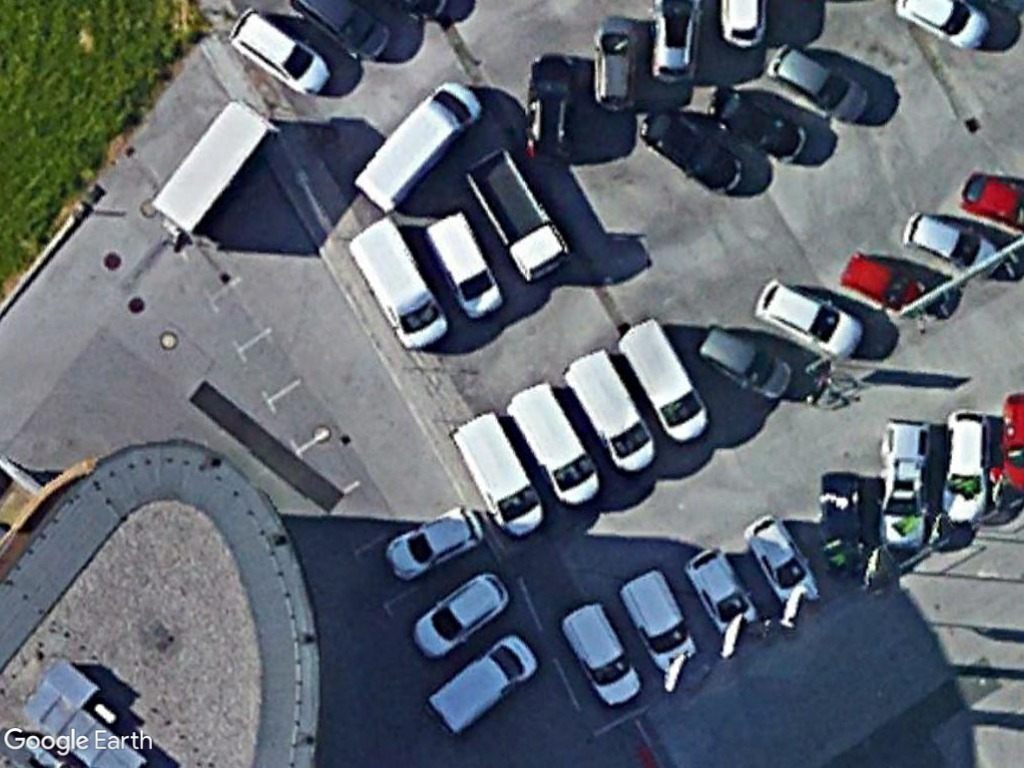car: (751, 273, 865, 363), (222, 6, 333, 98), (639, 102, 746, 197), (763, 35, 873, 126), (411, 571, 511, 661), (706, 79, 809, 163), (381, 504, 484, 586), (744, 509, 823, 614), (695, 323, 796, 401), (903, 206, 1004, 283), (938, 406, 996, 529), (521, 49, 579, 165), (839, 245, 923, 316), (587, 12, 641, 114)
van: (351, 76, 485, 213), (344, 213, 452, 356), (447, 408, 547, 536), (505, 380, 603, 509), (422, 629, 540, 736), (562, 347, 660, 475), (615, 318, 712, 446), (423, 209, 506, 323), (560, 601, 643, 711)
